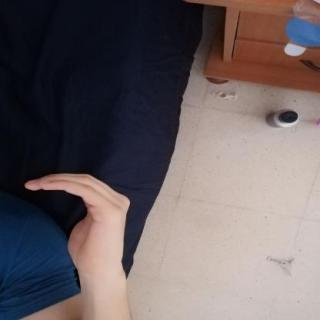HAA: (12, 166, 140, 275)
